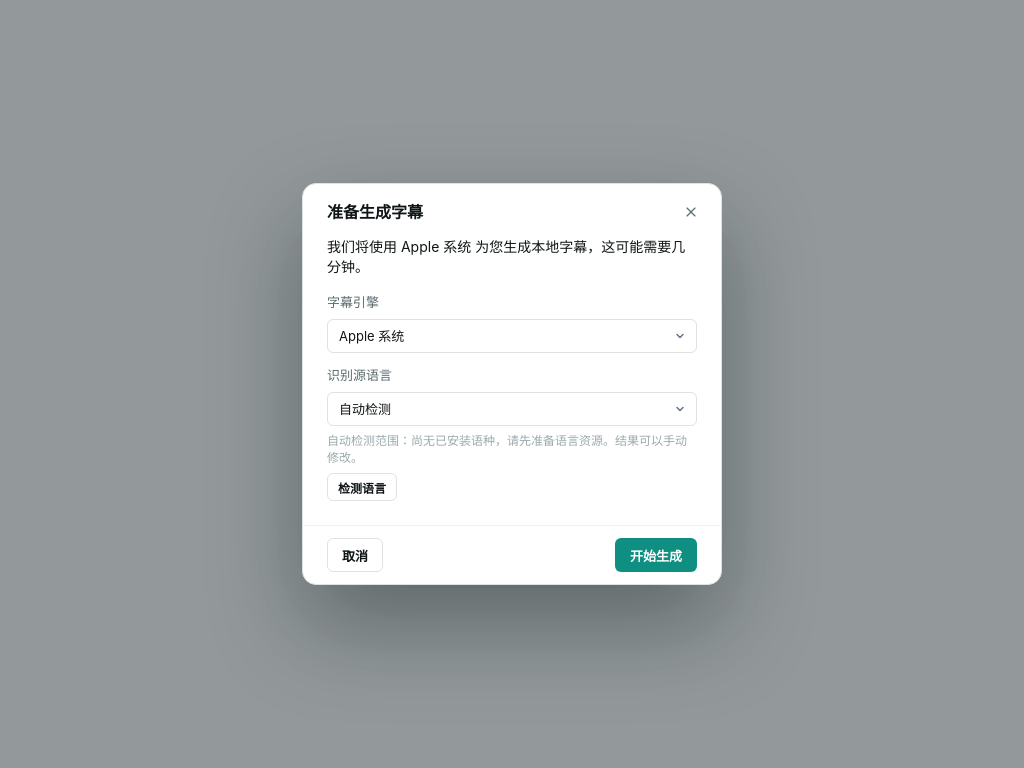
Scenario: 字幕生成：覆盖与待确认 › MEDIA-04 写回失败（subtitle_replace_failed）单独说明，按钮是「重试写回」，重试走强制生成复用临时结果
Click the button with test id "subtitle-confirm".
click(656, 555)  # box [615, 538, 697, 572]
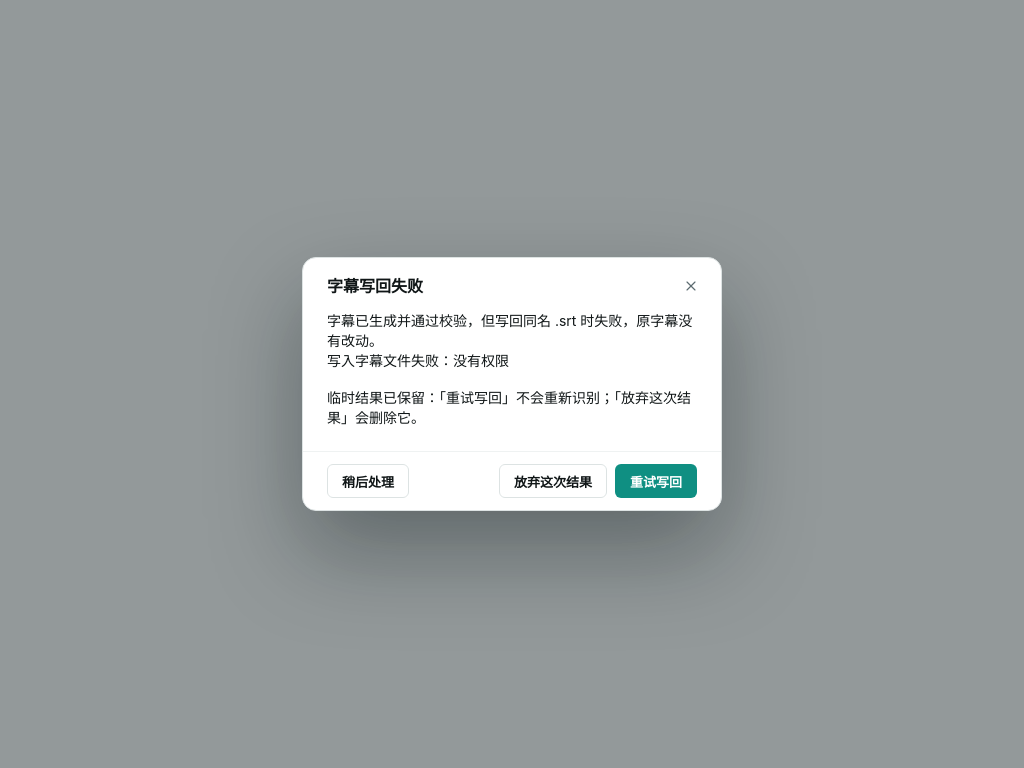
Expected: the text "字幕写回失败" is shown, [327, 276, 423, 296]
Expected: the text with test id "subtitle-dialog-msg" shows "临时结果已保留", [327, 312, 692, 426]
Expected: the button with test id "subtitle-confirm" reads "重试写回"
Click the button with test id "subtitle-confirm".
click(656, 481)  # box [615, 464, 697, 498]
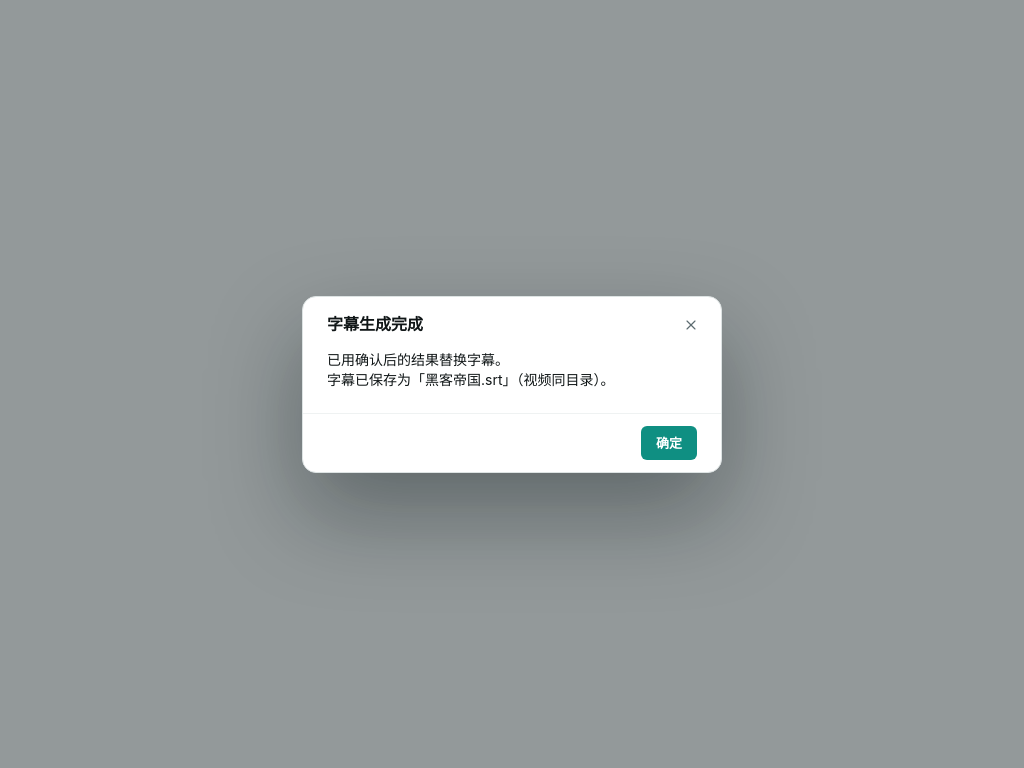
Expected: the text with test id "subtitle-dialog-msg" shows "黑客帝国.srt", [327, 350, 614, 388]
